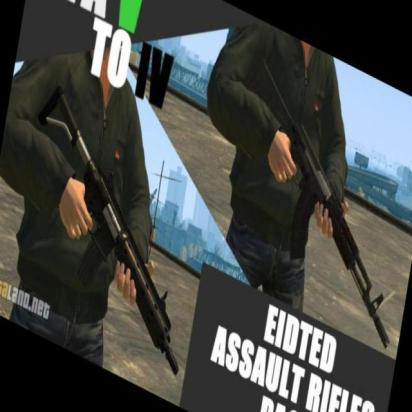Gun: (35, 77, 183, 378), (247, 52, 395, 351)
